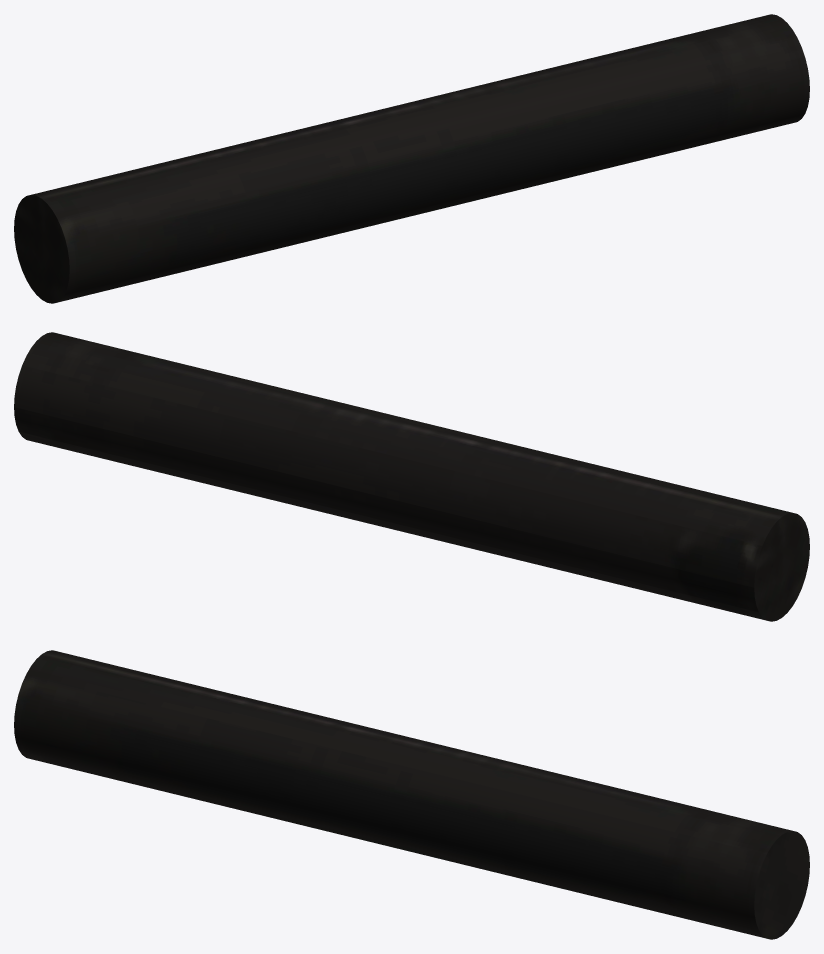
Rendered from center_frame__front_yoke_neck.glb.
3 renders of one model, top to bottom at view 1: azimuth 30°, elevation 25°; view 2: azimuth 150°, elevation 25°; view 3: azimuth 330°, elevation 25°, orthographic.
Visible parts, largest first — view 1: world; view 2: world; view 3: world.
Boxes of the visible parts, box(x1,y1,x2,y2) form: world: box(14, 14, 809, 303); world: box(14, 332, 809, 621); world: box(14, 650, 809, 939).
Bounding box in the file's own units: 0.23 × 0.03 × 0.03.
Materials: 1 (1 with a texture image).
